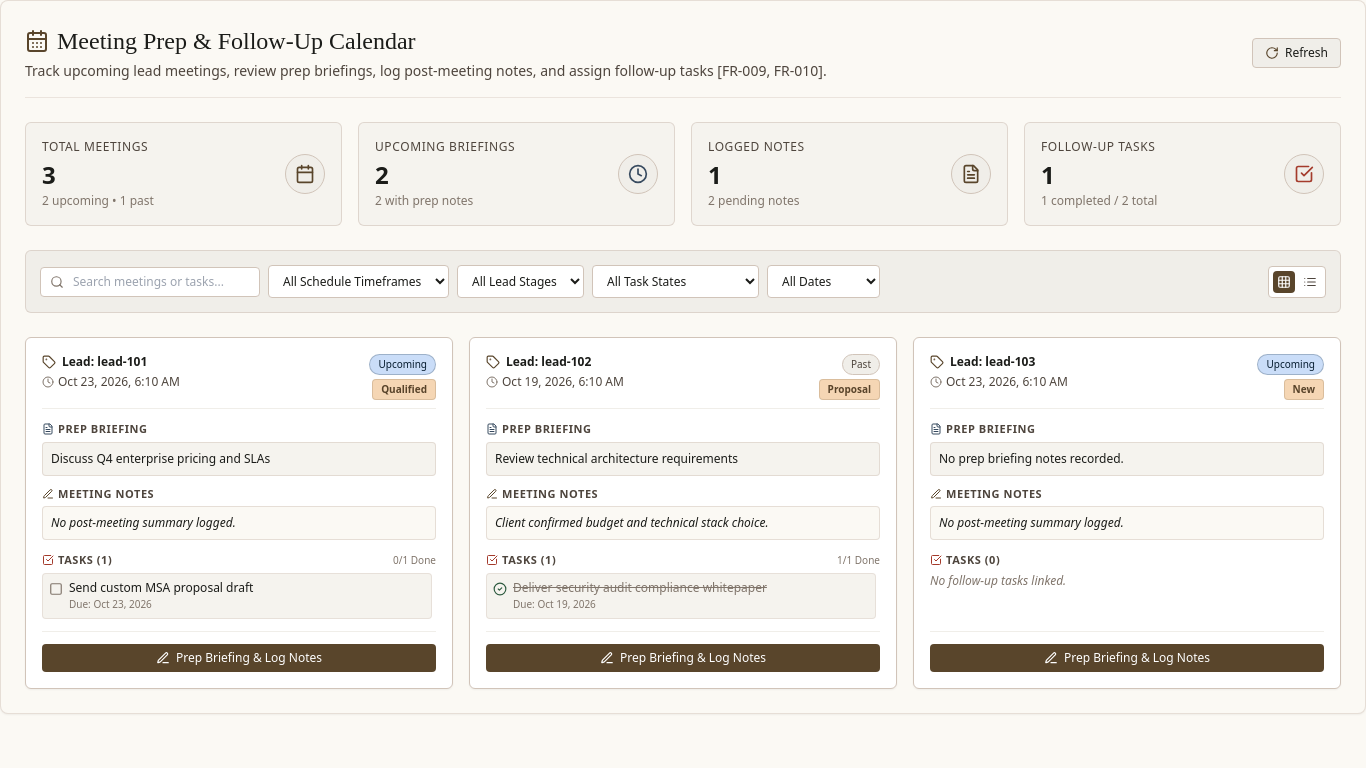
Test: MeetingCalendar Component [FR-009, FR-010] › Component Rendering & View Modes [FR-009] › toggles between Grid and List view modes [FR-009]
Expected: the element with test id "calendar-grid-view" is shown, [25,337,1341,688]
What coordinates should you click on to do the following:
click the button with test id "view-list-btn"
I would click on:
 (1310, 282)
Its box is [1299,270,1321,292].
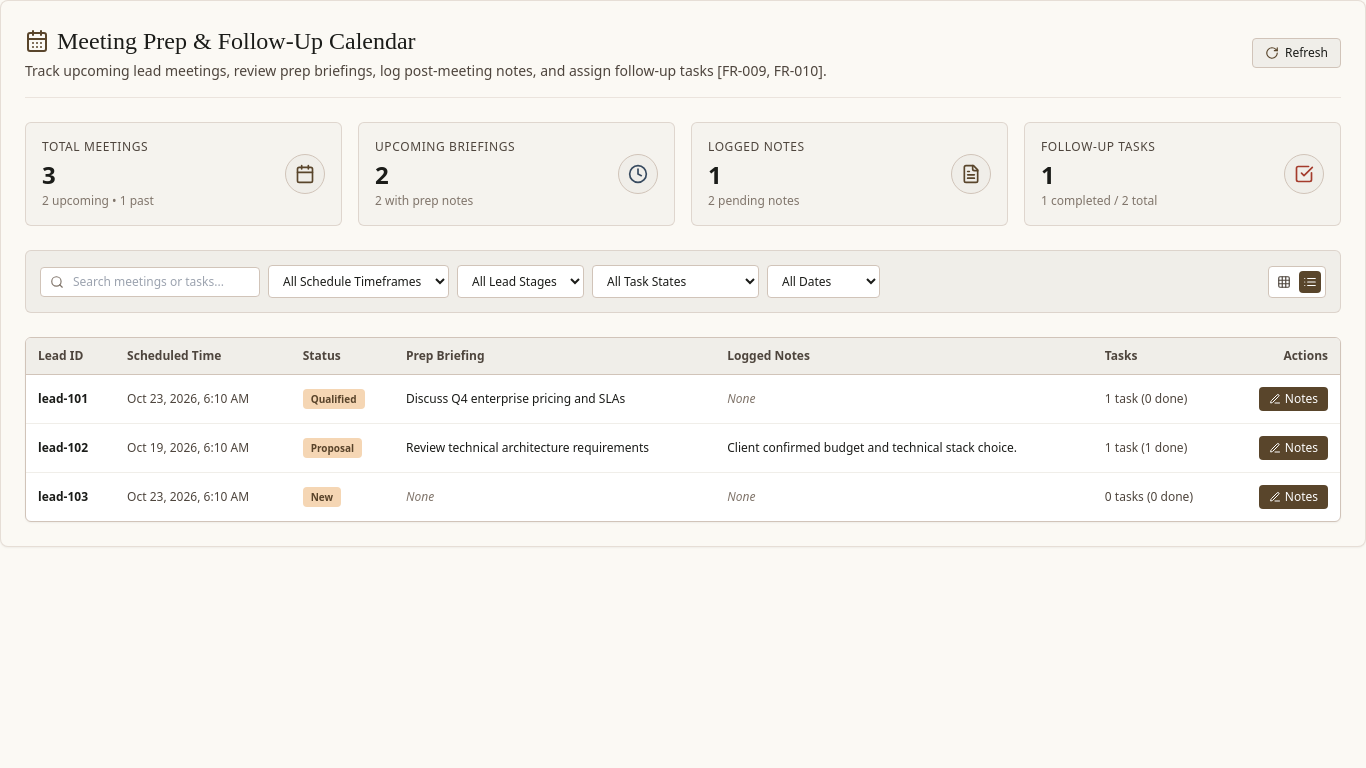
Expected: the text "lead-101" is shown, [26,374,115,424]
Now the element with test id "calendar-list-view" is shown, box [25,337,1341,522]
What coordinates should you click on to do the following:
click the button with test id "view-grid-btn"
I would click on:
 (1284, 282)
Its box is [1273,270,1295,292].
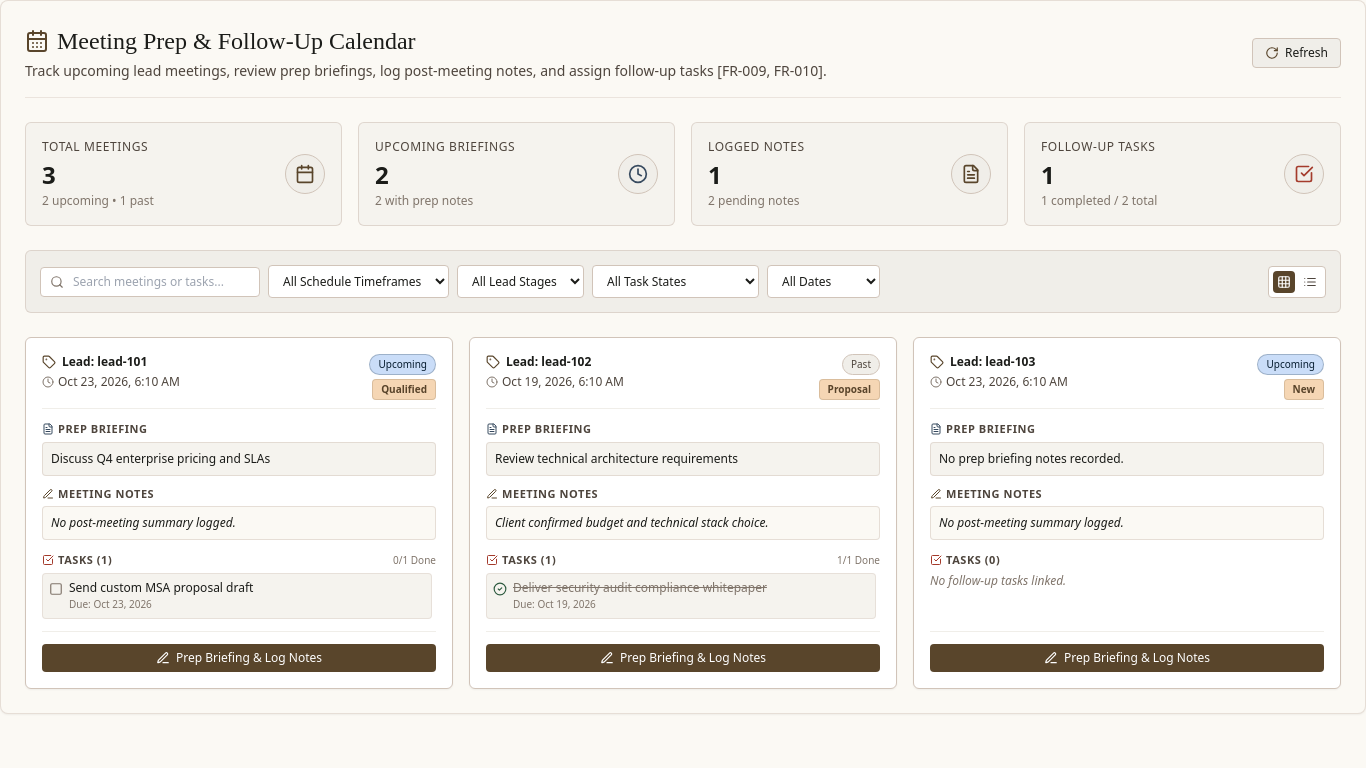
Now the element with test id "calendar-grid-view" is shown, box [25,337,1341,688]
